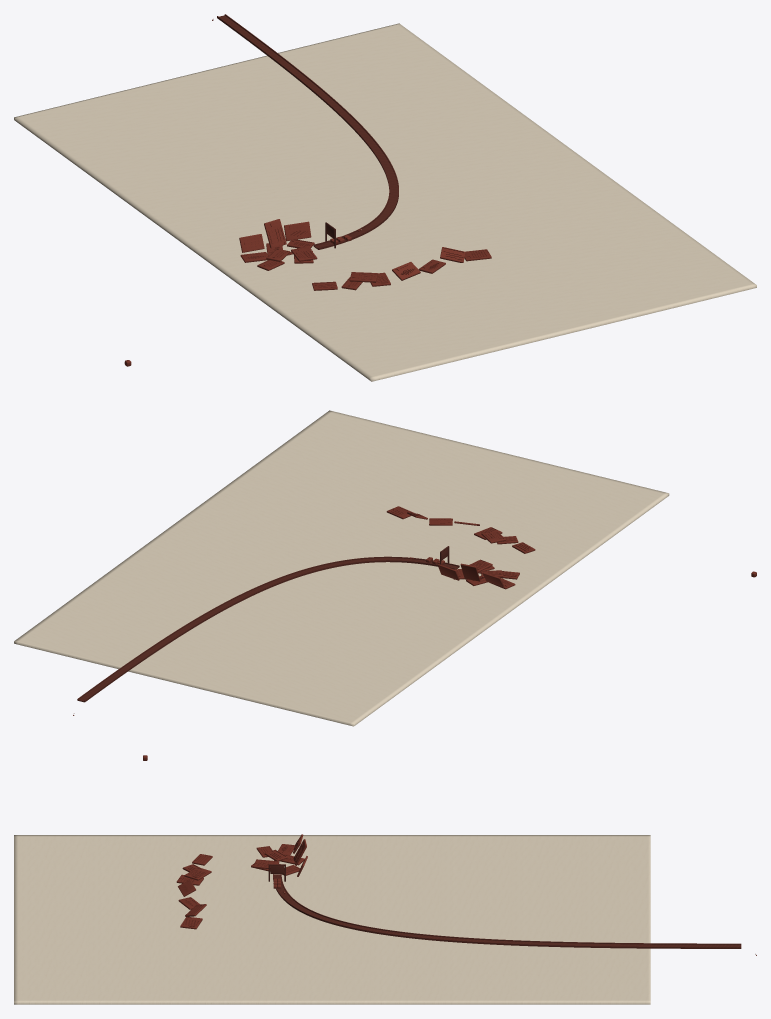
Rendered from input-baked.glb.
3 renders of one model, top to bottom at view 1: azimuth 30°, elevation 25°; view 2: azimuth 150°, elevation 25°; view 3: azimuth 270°, elevation 25°, orthographic. The views are drawn at different scales.
Parts seen in each view (by area): view 1: ground_input, INPUT_track; view 2: ground_input, INPUT_track; view 3: ground_input, INPUT_track.
Boxes of the visible parts, box(x1,y1,x2,y2) form: ground_input: box(14, 23, 756, 381); INPUT_track: box(217, 14, 398, 249); ground_input: box(14, 410, 669, 726); INPUT_track: box(77, 556, 459, 702); ground_input: box(14, 835, 650, 1004); INPUT_track: box(273, 874, 741, 948).
Size of the model in its own units: 26.05 by 1.48 by 33.78.
7 materials, 7 textured.
